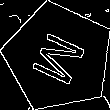M_SE: (26, 26, 91, 89)
